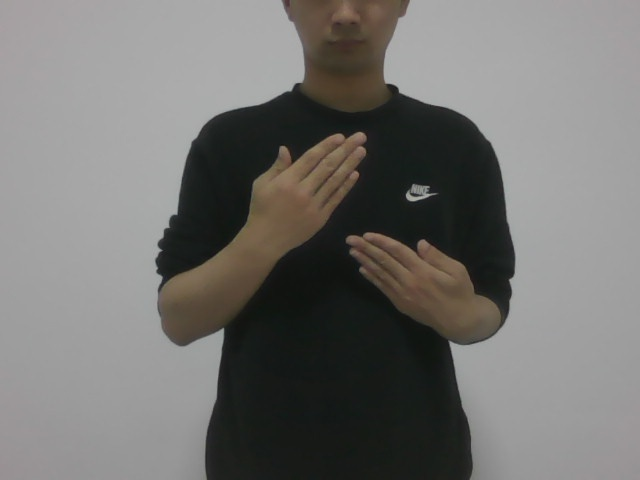tea: (249, 127, 461, 338)
